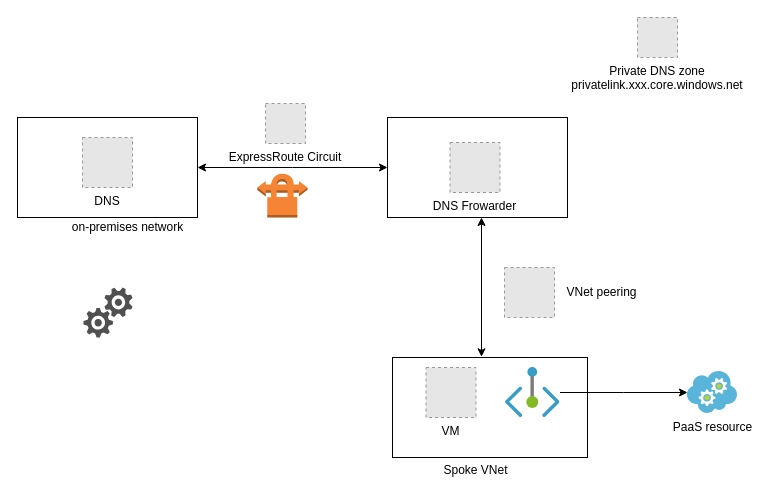
Some shapes in this 769 by 498 pixel diagram are drawn without their labels. Grey dashed boxes stand in for pictures. The shapes that lost their labels are listed below. From the top down, each one's centre as x and y in pixels, then its label:
At [282,195]: "VPN connection".
At [532,392]: "Private Endpoint".
